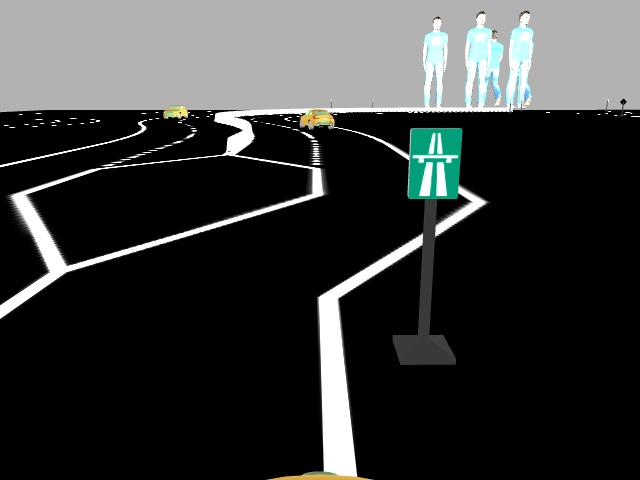HighwayEntrance: (405, 126, 463, 201)
